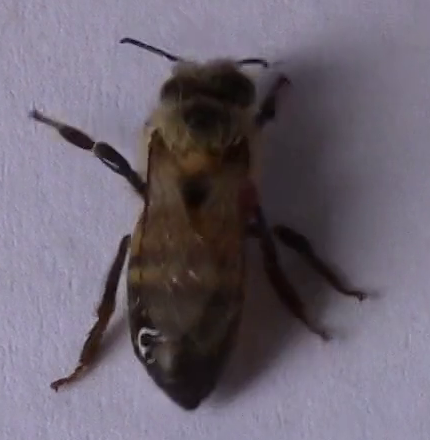Varroa destructor: (237, 178, 261, 222)
